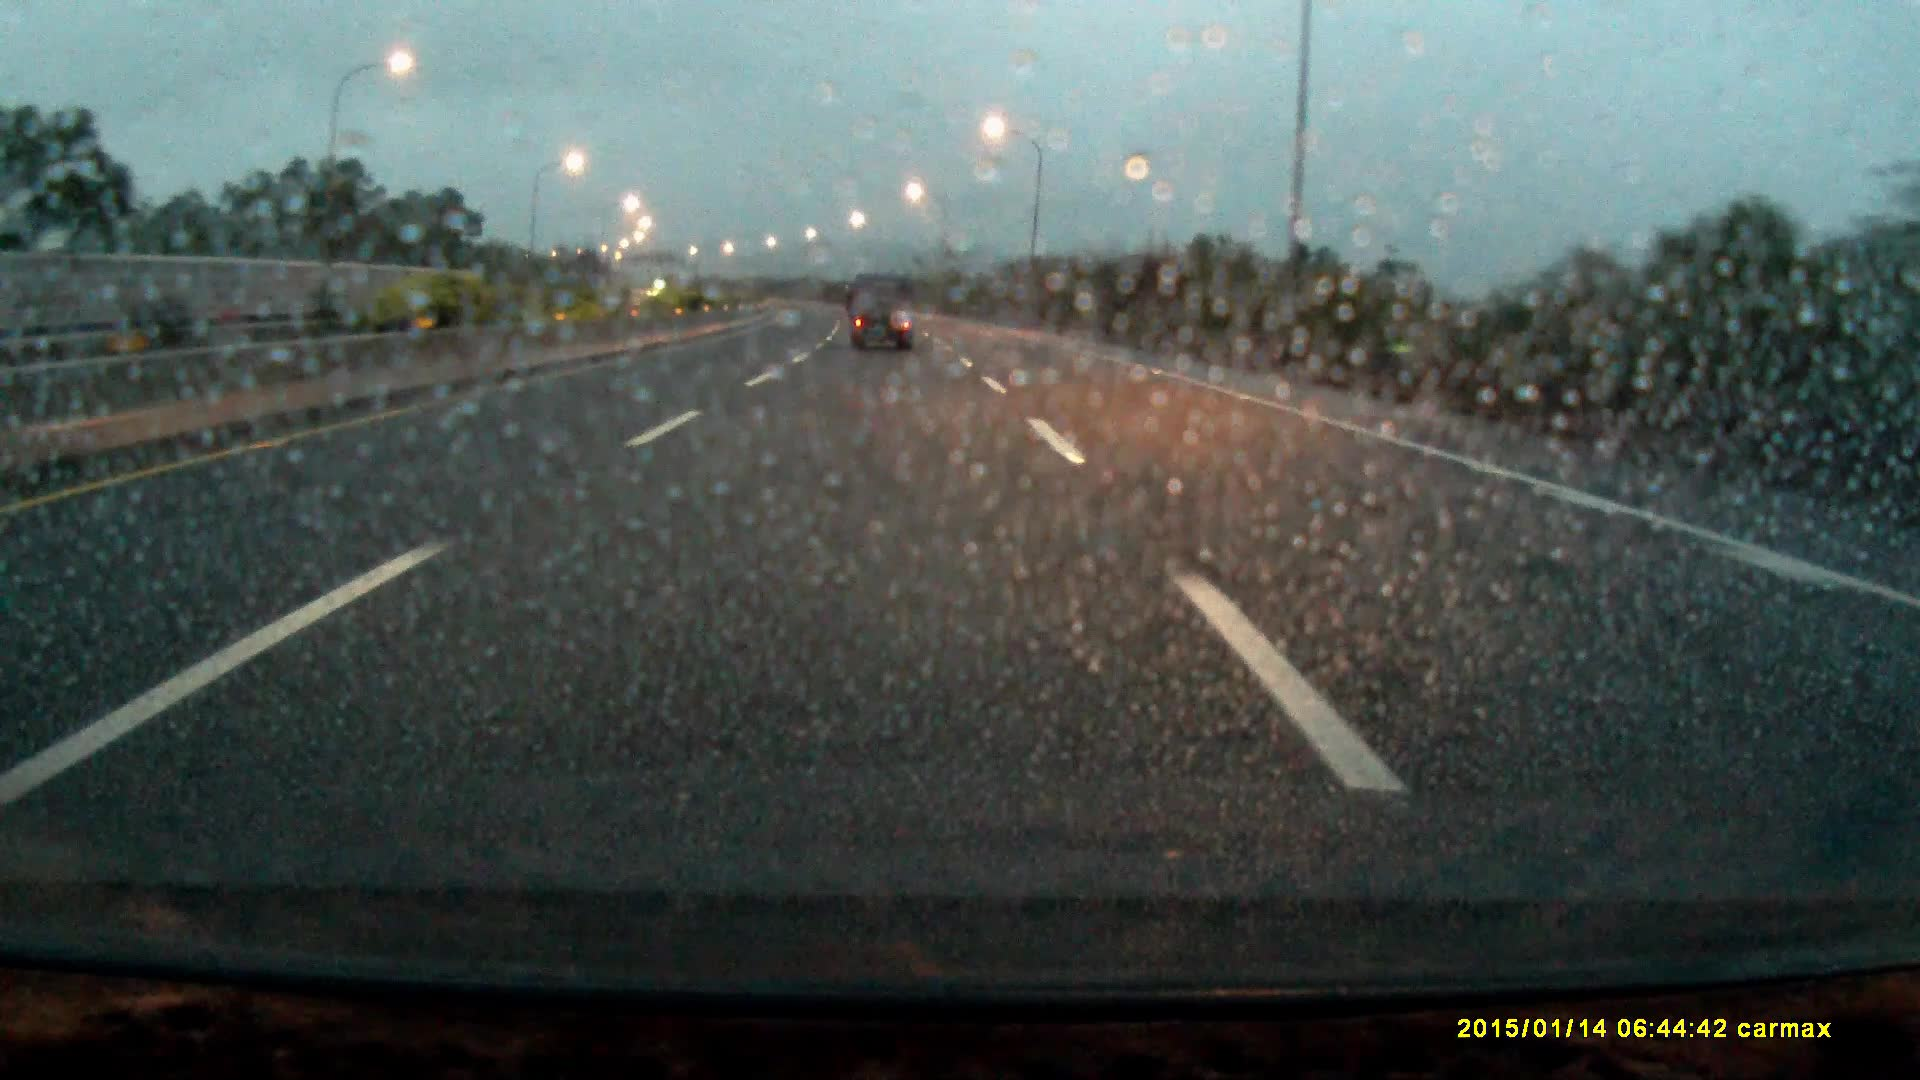vehicle: (851, 274, 915, 355)
